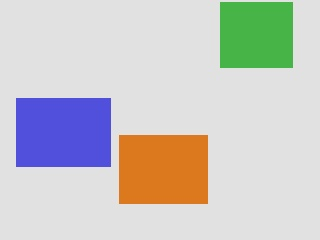square: (119, 135, 207, 203)
tall_box: (16, 98, 110, 166)
wide_box: (220, 2, 292, 67)
